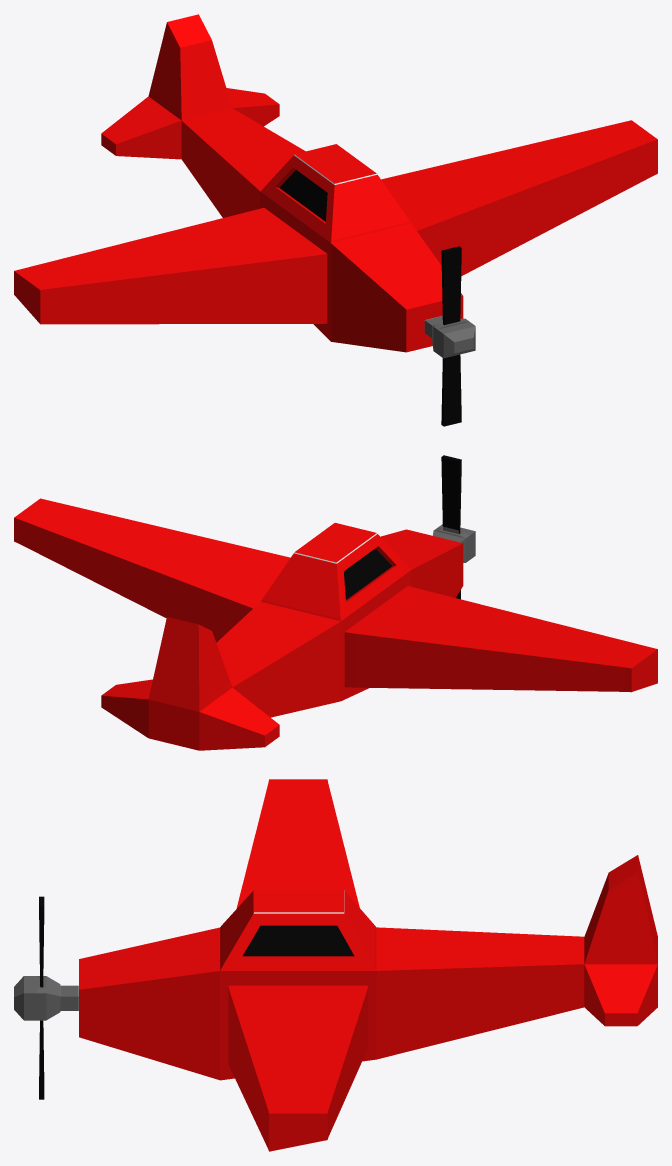
Rendered from airplane.FBX.
3 renders of one model, top to bottom at view 1: azimuth 30°, elevation 25°; view 2: azimuth 150°, elevation 25°; view 3: azimuth 270°, elevation 25°, orthographic. The views are drawn at different scales.
Parts seen in each view (by area): view 1: Box002; view 2: Box002; view 3: Box002.
Boxes of the visible parts, box(x1,y1,x2,y2) form: Box002: box(14, 14, 657, 426); Box002: box(14, 455, 657, 750); Box002: box(14, 779, 657, 1151).
Bounding box in the file's own units: 132 × 42.61 × 107.
